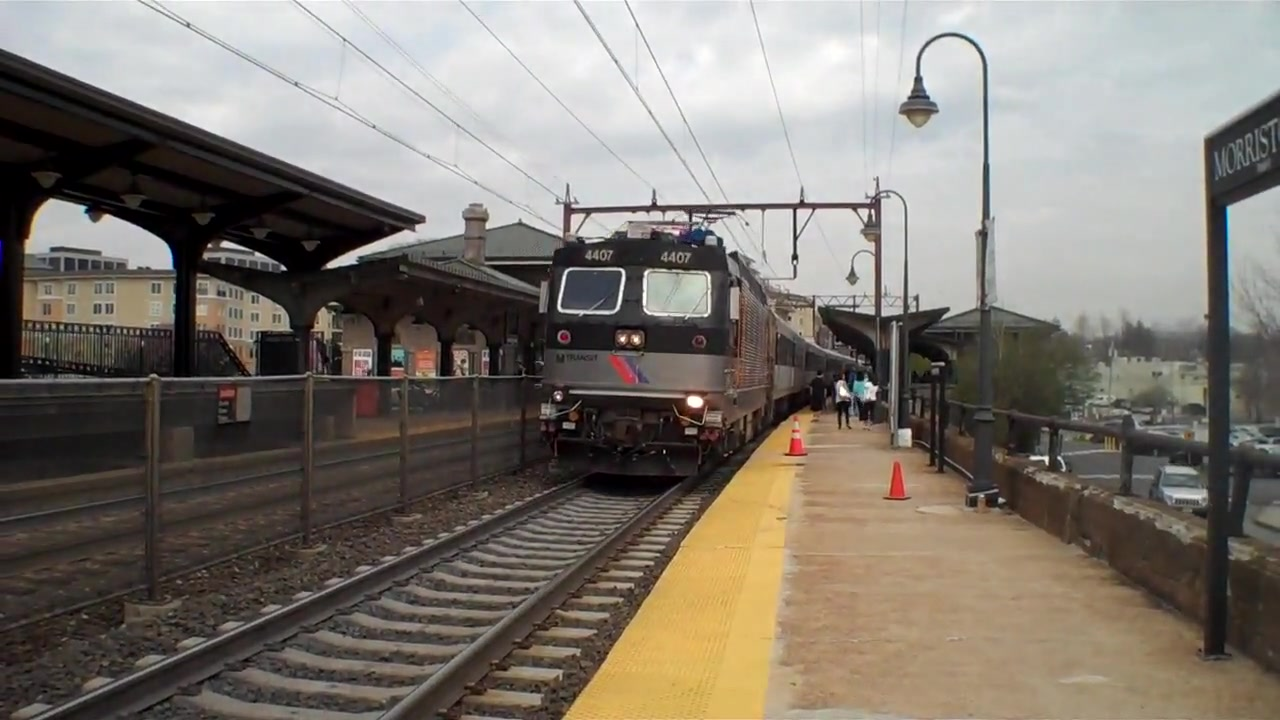train: (531, 227, 876, 475)
